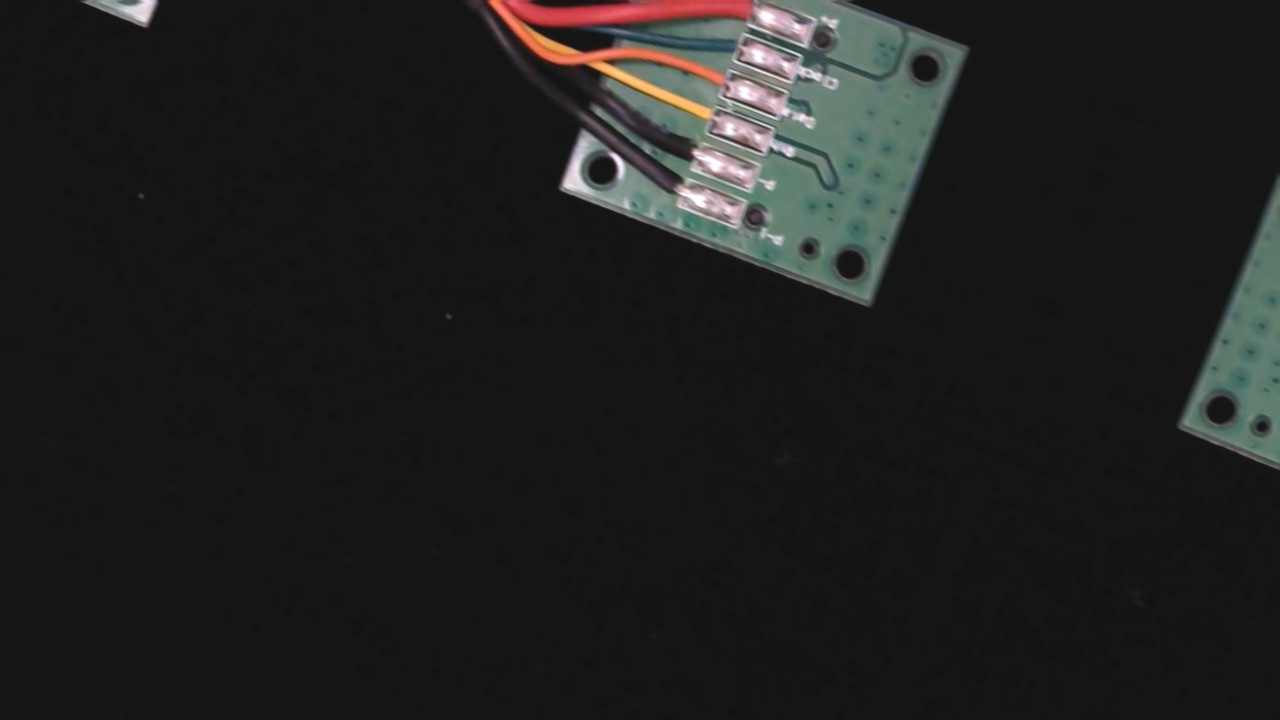Black: (647, 122, 720, 174)
Black1: (629, 160, 704, 215)
Green: (696, 16, 766, 68)
Orange: (681, 52, 750, 102)
Red: (702, 0, 780, 33)
Yellow: (660, 87, 734, 137)
